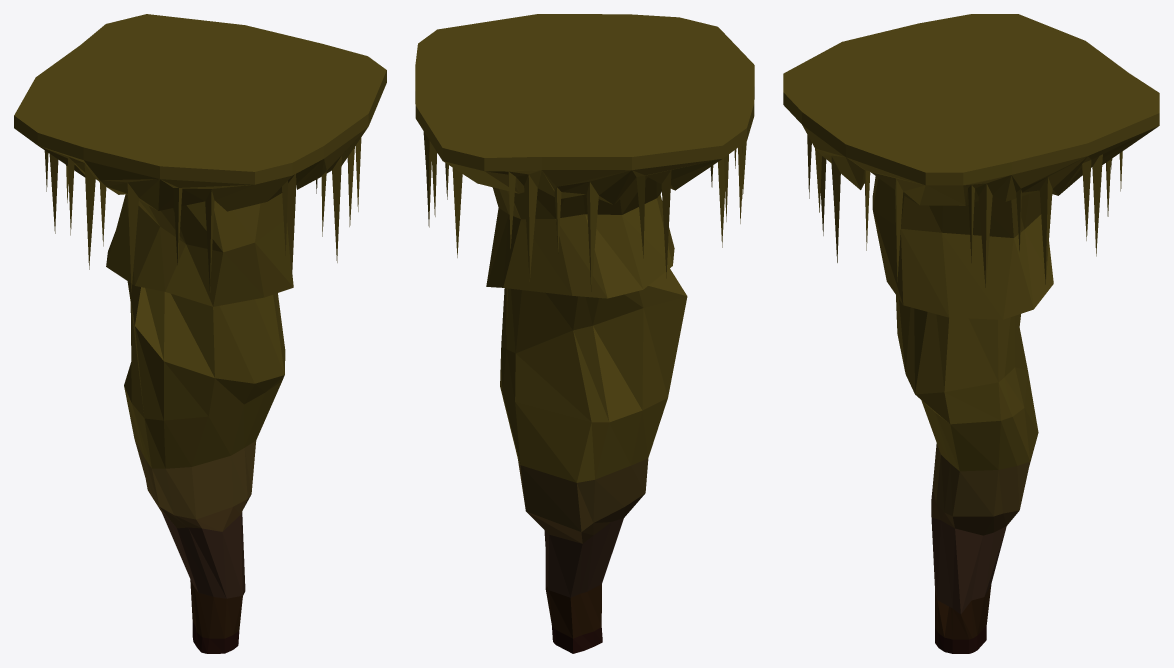
File: obj_platform_5_0.obj
3 renders of one model, left to right at view 1: azimuth 30°, elevation 25°; view 2: azimuth 150°, elevation 25°; view 3: azimuth 270°, elevation 25°, orthographic. The views are drawn at different scales.
Size of the model in its own units: 2.49 by 4.01 by 2.5.
